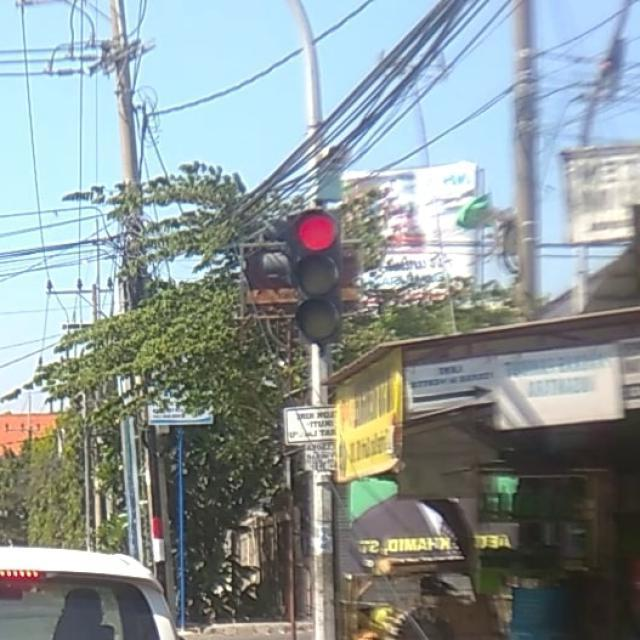red_light: (294, 206, 344, 348)
